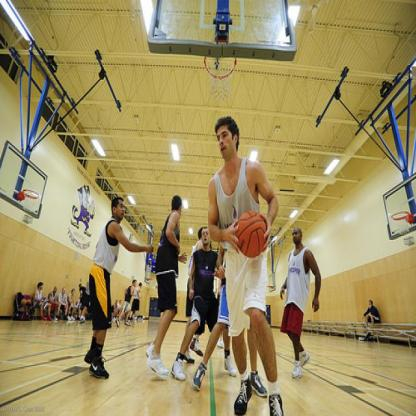basketball: (236, 210, 269, 259)
rim: (202, 37, 239, 79), (391, 210, 409, 222), (22, 189, 38, 201)
